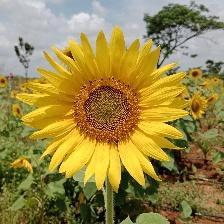sunflower: (23, 29, 195, 187)
